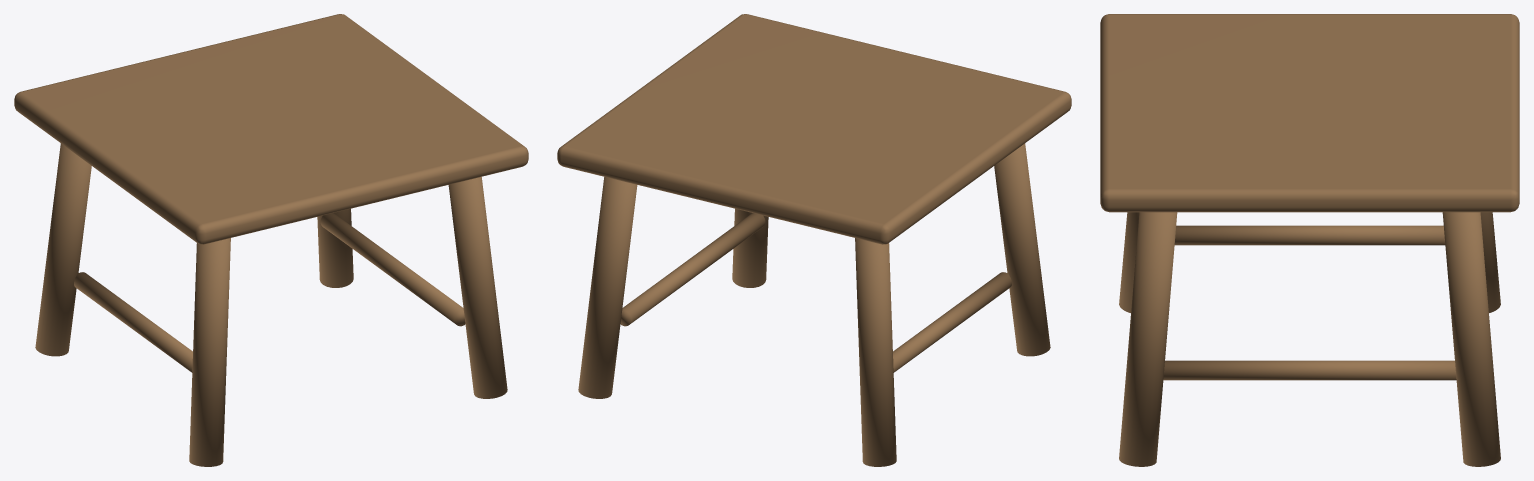
Rendered from step_stool.glb.
3 renders of one model, left to right at view 1: azimuth 30°, elevation 25°; view 2: azimuth 150°, elevation 25°; view 3: azimuth 270°, elevation 25°, orthographic. The views are drawn at different scales.
Visible parts, largest first — view 1: step_stool; view 2: step_stool; view 3: step_stool.
Boxes of the visible parts, box(x1,y1,x2,y2) form: step_stool: box(14, 14, 528, 466); step_stool: box(557, 14, 1071, 466); step_stool: box(1100, 14, 1519, 466).
Size of the model in its own units: 0.43 by 0.3127 by 0.42.
